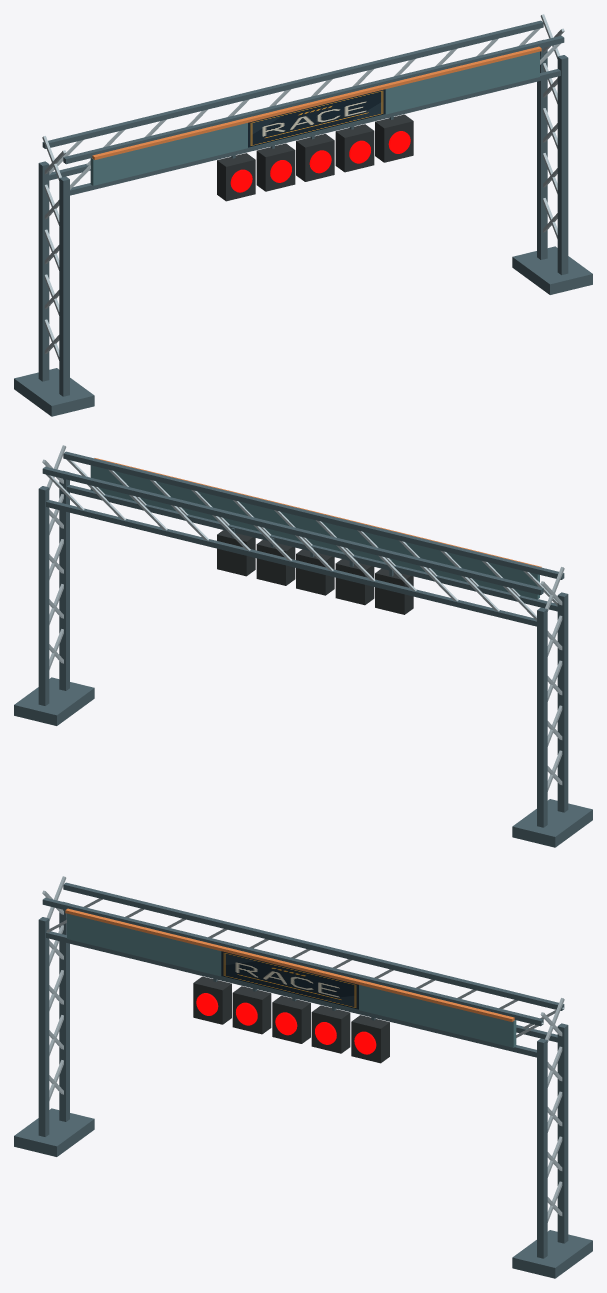
The model's file is start-gantry.glb.
3 renders of one model, top to bottom at view 1: azimuth 30°, elevation 25°; view 2: azimuth 150°, elevation 25°; view 3: azimuth 330°, elevation 25°, orthographic.
Parts seen in each view (by area): view 1: GantryStructure, Header, SignalHousings, GantryLattice, RaceHeader, GantryTrim; view 2: GantryStructure, Header, GantryLattice, SignalHousings, GantryTrim; view 3: GantryStructure, Header, SignalHousings, GantryLattice, RaceHeader, GantryTrim.
Part boxes in pixels (x1,y1,x2,y2): GantryStructure: [14, 20, 592, 416]; Header: [90, 51, 539, 185]; SignalHousings: [217, 114, 413, 201]; GantryLattice: [42, 14, 564, 360]; RaceHeader: [248, 89, 385, 147]; GantryTrim: [92, 46, 541, 159]; GantryStructure: [14, 451, 592, 847]; Header: [90, 465, 539, 599]; GantryLattice: [42, 445, 564, 791]; SignalHousings: [217, 530, 413, 614]; GantryTrim: [94, 458, 541, 567]; GantryStructure: [14, 882, 592, 1278]; Header: [67, 913, 516, 1047]; SignalHousings: [193, 976, 389, 1063]; GantryLattice: [42, 876, 564, 1222]; RaceHeader: [221, 951, 358, 1009]; GantryTrim: [65, 908, 514, 1021].
Bounding box in the file's own units: 15.75 × 7.08 × 1.9.
7 materials, 1 textured.
